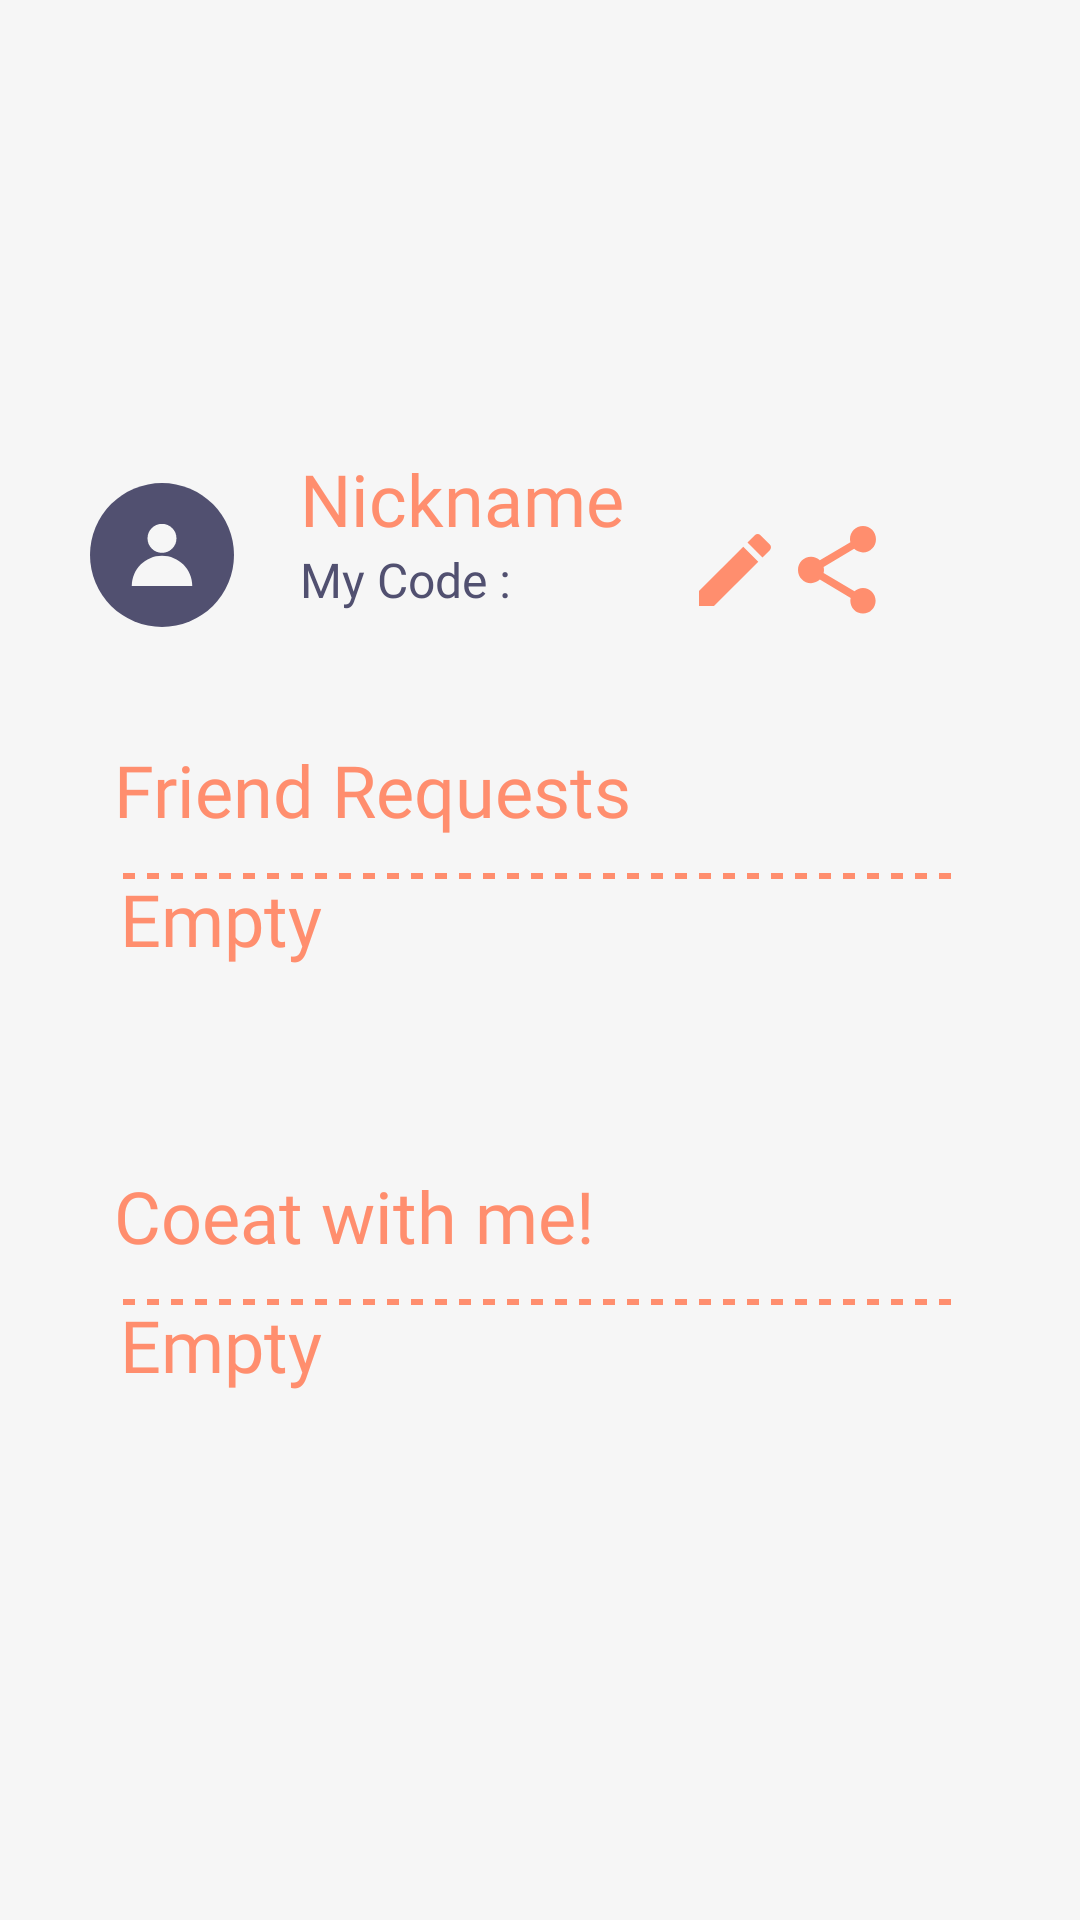

Point at icon controls on the screen. Image size 1080w x 1920h, points as point (x, y).
edit: point (735, 570)
share salmon: point (837, 570)
